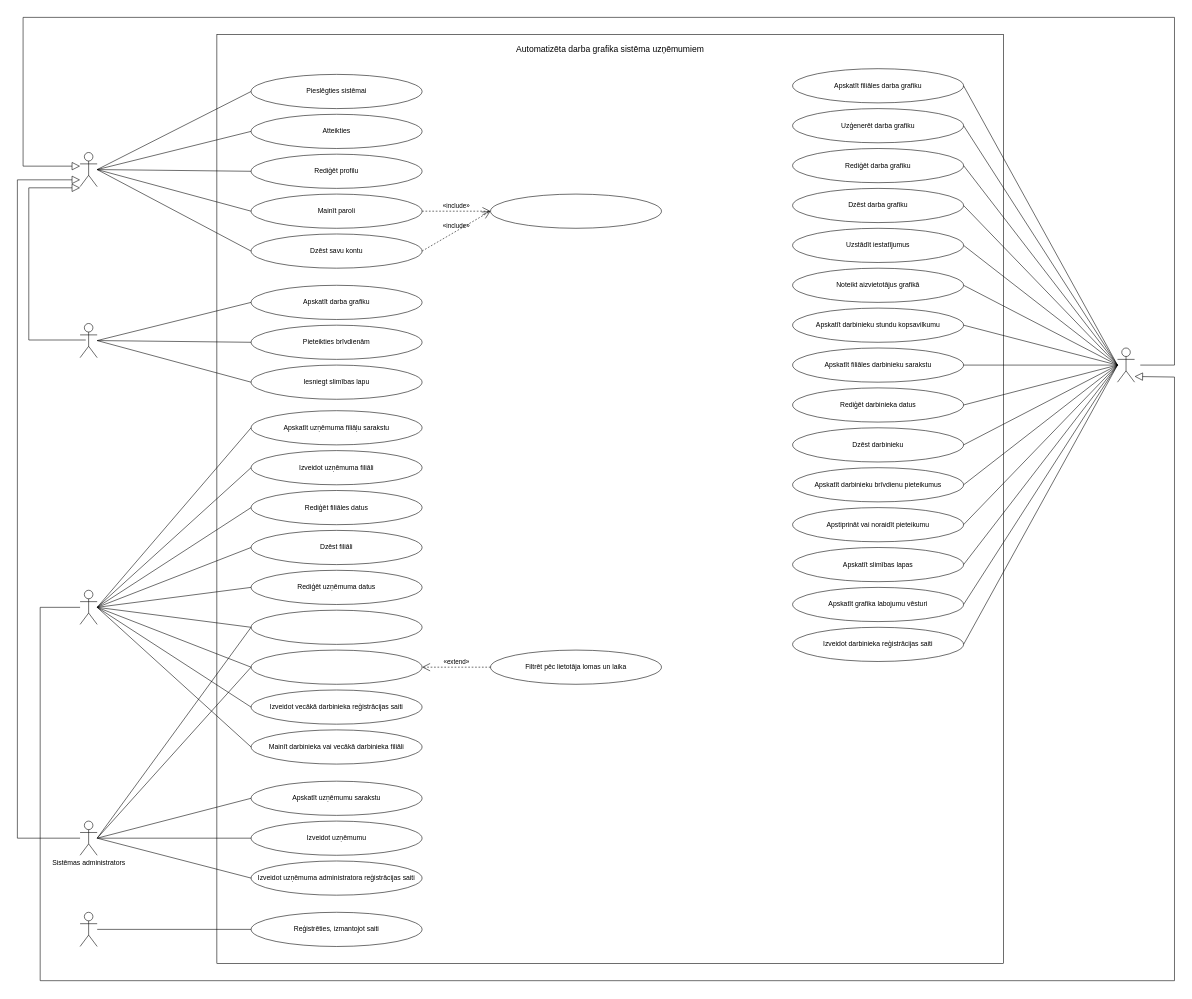
Image size: 1192x999. Some labels were removed from this diagram. The shapes that lost their labels are listed below. From the top down, each one's box as (x1, y1, x2, y2) in pixels, then its label:
(80, 152, 97, 187): Reģistrēts lietotājs
(490, 194, 661, 228): Ievadīt paroli apstiprināšanai
(80, 323, 97, 358): Darbinieks
(1117, 347, 1135, 382): Vecākais darbinieks
(80, 590, 97, 624): Uzņēmuma administrators
(251, 610, 422, 644): Dzēst uzņēmumu
(251, 650, 422, 684): Apskatīt darbību vēsturi
(80, 912, 97, 946): Nereģistrēts lietotājs
